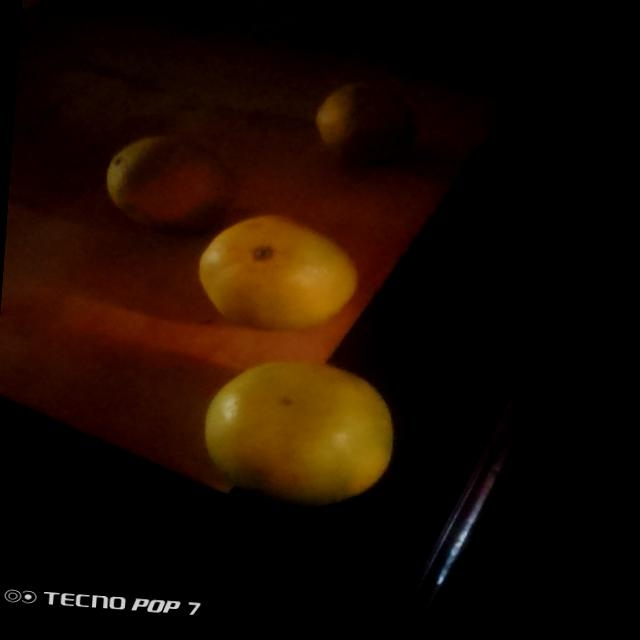agrume: (186, 360, 410, 508), (187, 199, 387, 344), (94, 130, 234, 237), (310, 73, 417, 160)
